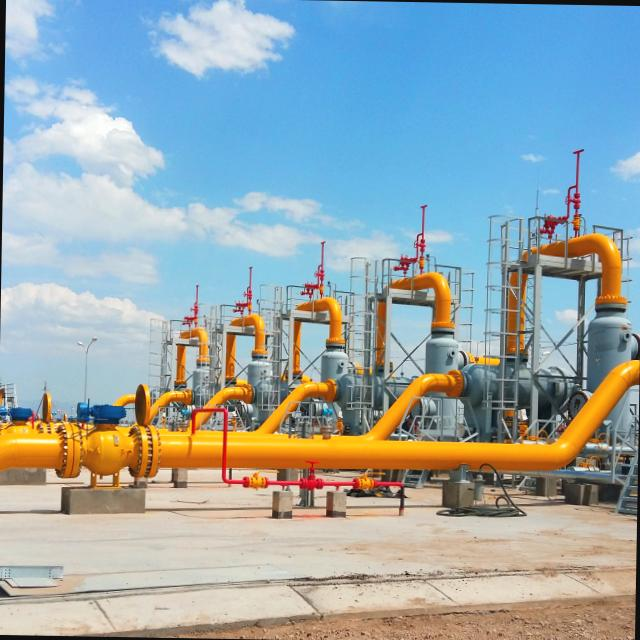gas: (3, 420, 566, 491), (489, 233, 628, 268), (369, 264, 449, 299), (276, 292, 340, 318), (216, 316, 268, 332), (163, 326, 207, 340)
